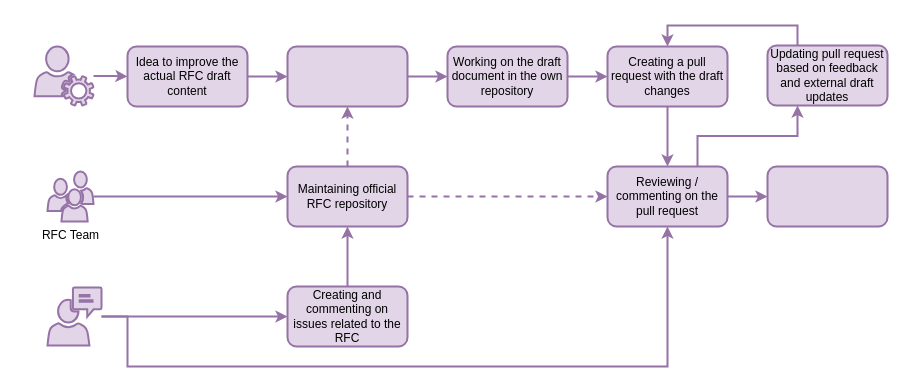
Image size: 905x392. Some labels were removed from this diagram. Here are the shapes that lost their labels. From the top down, the centre of each, then its label:
At point (63, 75): "Public contributor".
At point (347, 76): "Forking the current version of the draft from the official RFC repository".
At point (827, 196): "Merging the pull request into the master branch of the official repository".
At point (74, 316): "Author".
